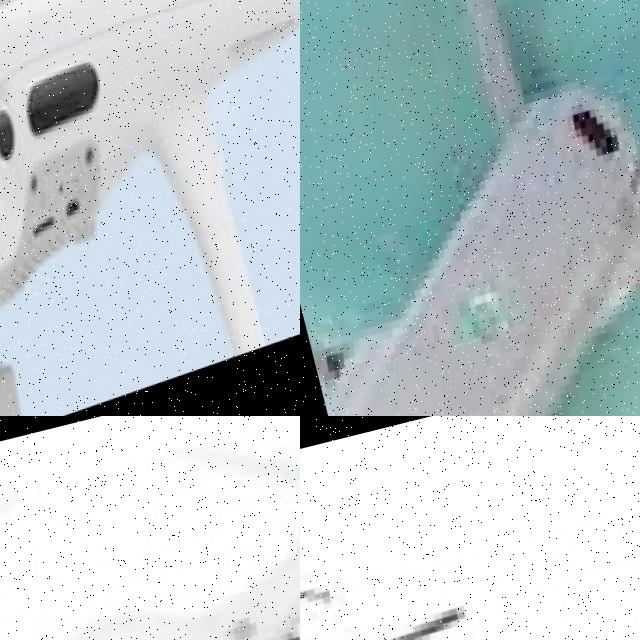drone: (300, 0, 640, 416), (0, 0, 300, 416), (0, 416, 300, 640), (300, 475, 640, 640)
